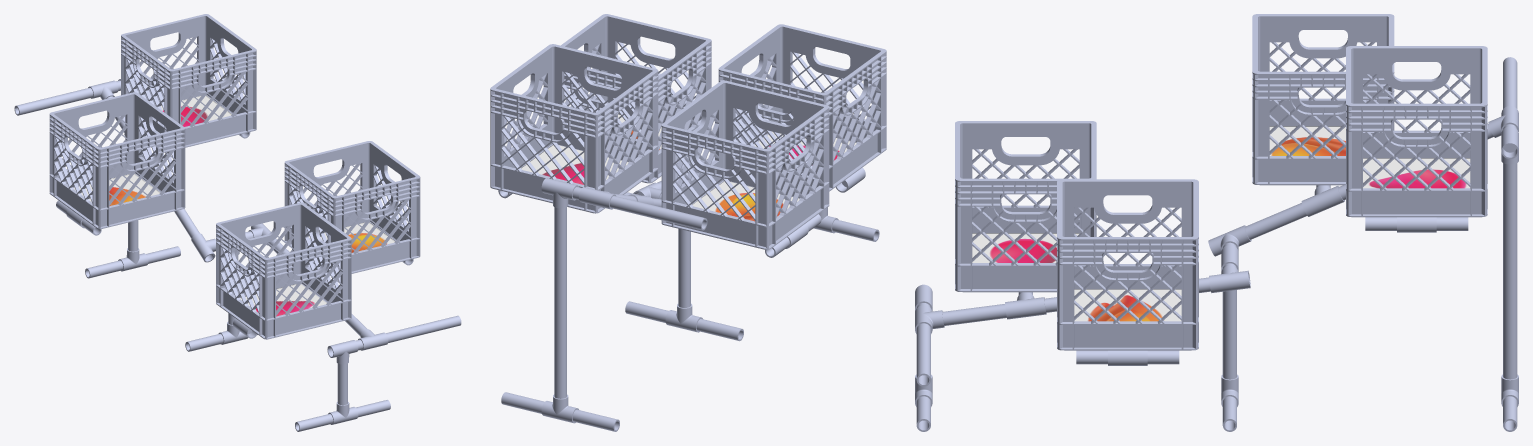
File: bins_orig.glb
3 views of the same model, side by side, from view 1: azimuth 30°, elevation 25°; view 2: azimuth 150°, elevation 25°; view 3: azimuth 270°, elevation 25° (orthographic). The views are drawn at different scales.
Parts seen in each view (by area): view 1: fire-2 - Part, blood-1 - Part, blood-2 - Part, fire-1 - Part, Pipes-5 - Part, Pipes-29 - Part, blood-1 - Part 2, fire-2 - Part 2, blood-2 - Part 2, blood-1 - Part 2.001, tee-17 - Part, tee-8 - Part (+4 smaller); view 2: fire-2 - Part, blood-2 - Part, blood-1 - Part, fire-1 - Part, Pipes-3 - Part, Pipes-5 - Part, blood-2 - Part 2, fire-2 - Part 2, Pipes-17 - Part, tee-2 - Part, tee-11 - Part, tee-1 - Part (+6 smaller); view 3: blood-2 - Part, fire-1 - Part, blood-1 - Part, fire-2 - Part, Pipes-3 - Part, blood-1 - Part 2.001, blood-2 - Part 2, blood-1 - Part 2, fire-2 - Part 2, Pipes-17 - Part, Pipes-26 - Part, Pipes-14 - Part (+9 smaller).
Boxes of the visible parts, bbox=[...] form: fire-2 - Part: bbox=[49, 92, 185, 229]; blood-1 - Part: bbox=[216, 202, 351, 339]; blood-2 - Part: bbox=[121, 14, 256, 147]; fire-1 - Part: bbox=[284, 141, 420, 274]; Pipes-5 - Part: bbox=[14, 87, 93, 115]; Pipes-29 - Part: bbox=[386, 315, 461, 342]; blood-1 - Part 2: bbox=[240, 284, 326, 316]; fire-2 - Part 2: bbox=[73, 173, 160, 205]; blood-2 - Part 2: bbox=[161, 95, 231, 126]; blood-1 - Part 2.001: bbox=[308, 222, 394, 252]; tee-17 - Part: bbox=[327, 340, 358, 364]; tee-8 - Part: bbox=[191, 233, 215, 262]; fire-2 - Part: bbox=[661, 80, 829, 249]; blood-2 - Part: bbox=[490, 44, 658, 213]; blood-1 - Part: bbox=[718, 24, 886, 191]; fire-1 - Part: bbox=[561, 14, 711, 183]; Pipes-3 - Part: bbox=[554, 207, 566, 398]; Pipes-5 - Part: bbox=[610, 196, 707, 230]; blood-2 - Part 2: bbox=[521, 145, 628, 184]; fire-2 - Part 2: bbox=[692, 181, 799, 221]; Pipes-17 - Part: bbox=[678, 228, 690, 307]; tee-2 - Part: bbox=[541, 178, 578, 208]; tee-11 - Part: bbox=[665, 303, 702, 332]; tee-1 - Part: bbox=[541, 394, 578, 423]; blood-2 - Part: bbox=[1346, 46, 1487, 217]; fire-1 - Part: bbox=[1057, 179, 1198, 350]; blood-1 - Part: bbox=[955, 121, 1096, 292]; fire-2 - Part: bbox=[1252, 14, 1394, 185]; Pipes-3 - Part: bbox=[1503, 163, 1517, 379]; blood-1 - Part 2.001: bbox=[1074, 289, 1181, 321]; blood-2 - Part 2: bbox=[1363, 158, 1470, 188]; blood-1 - Part 2: bbox=[972, 233, 1079, 262]; fire-2 - Part 2: bbox=[1269, 126, 1345, 155]; Pipes-17 - Part: bbox=[1222, 290, 1236, 379]; Pipes-26 - Part: bbox=[942, 304, 1006, 325]; Pipes-14 - Part: bbox=[1245, 203, 1306, 239].
Bounding box in the file's own units: 0.951 × 0.878 × 1.41.
Materials: 57 (4 with a texture image).
